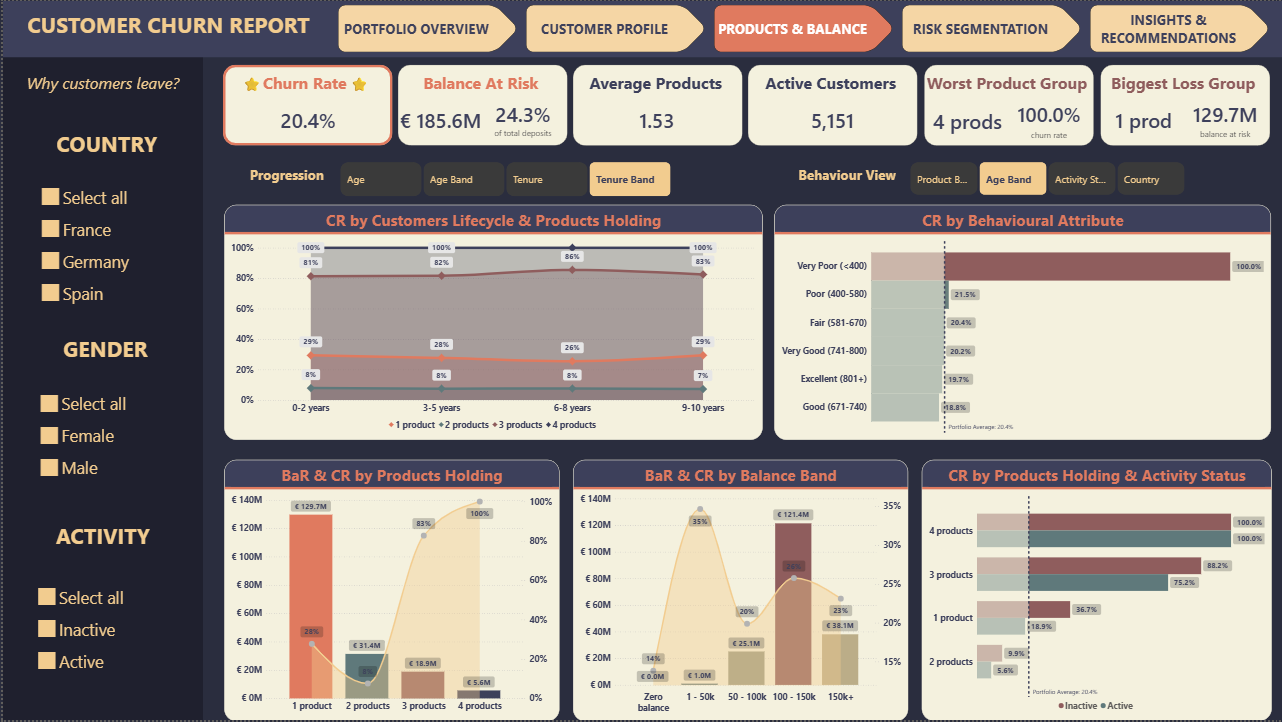

What the dashboard file says about the page in this screenshot:
{"tool":"powerbi","page":{"name":"PRODUCTS & BALANCE","canvas":[2560,1440],"ordinal":2},"visuals":[{"type":"group","id":"g1","title":"Group 2","box":[0,78,400,1362],"z":0},{"type":"textbox","box":[472,325.2,190.8,58.7],"z":0,"group":"g12"},{"type":"shape","box":[0,78,400,1362],"z":500,"group":"g1"},{"type":"shape","box":[0,0,2560,112.5],"z":1000},{"type":"shape","box":[1138.6,126.7,338.9,162],"z":1000,"group":"g5"},{"type":"shape","box":[788.7,127.2,338.9,161.5],"z":1000,"group":"g4"},{"type":"shape","box":[1488.4,127.2,338.8,162],"z":1000,"group":"g6"},{"type":"shape","box":[1841.3,127.2,338.9,162],"z":1000,"group":"g7"},{"type":"shape","box":[2192.6,127.2,338.9,162],"z":1000,"group":"g8"},{"type":"shape","box":[438.3,127.9,338.9,161.5],"z":1000,"group":"g9"},{"type":"textbox","box":[1582.5,325.9,212.4,58.1],"z":1000,"group":"g11"},{"type":"pageNavigator","box":[670,8.3,1866.7,95],"z":2000},{"type":"advancedSlicerVisual","fields":{"Values":["Progression.Progression"]},"box":[668.5,316.7,670.1,78.3],"z":2000,"group":"g12"},{"type":"group","id":"g2","title":"Group 5","box":[0,12.5,662.5,90],"z":3000},{"type":"textbox","box":[67.5,250,280,87.5],"z":3000,"group":"g1"},{"type":"advancedSlicerVisual","fields":{"Values":["Risk View.Risk View"]},"box":[1809.7,317.5,560.3,75],"z":3000,"group":"g11"},{"type":"group","id":"g3","title":"Group 4","box":[431.7,126.7,2100,165.4],"z":4000},{"type":"group","id":"g4","title":"Group 1","box":[782.1,127.2,345.7,161.5],"z":5000,"group":"g3"},{"type":"textbox","box":[1132,136.3,345.7,74.1],"z":5000,"group":"g5"},{"type":"textbox","box":[782.1,136.8,345.7,73.9],"z":5000,"group":"g4"},{"type":"textbox","box":[1481.8,136.8,345.6,74.1],"z":5000,"group":"g6"},{"type":"textbox","box":[1834.7,136.8,345.7,74.1],"z":5000,"group":"g7"},{"type":"textbox","box":[2186,136.8,345.7,74.1],"z":5000,"group":"g8"},{"type":"textbox","box":[431.7,137.5,345.7,73.9],"z":5000,"group":"g9"},{"type":"slicer","fields":{"Values":["Dim_Geography.Geography"]},"box":[65,360,280,265],"z":5000,"group":"g1"},{"type":"lineChart","title":"CR by Customers Lifecycle & Products Holding","fields":{"Category":["Dim_TenureBand.TenureBand"],"Series":["Dim_ProductBand.ProductBand"],"Y":["_Measures.Churn Rate %"]},"box":[443.3,406.7,1076.7,470],"z":5000},{"type":"group","id":"g5","title":"Group 1","box":[1132,126.7,346,162],"z":6000,"group":"g14"},{"type":"group","id":"g6","title":"Group 1","box":[1481.8,127.2,345.6,162],"z":6000,"group":"g13"},{"type":"group","id":"g7","title":"Group 1","box":[1834.7,127.2,345.7,163.7],"z":6000,"group":"g16"},{"type":"group","id":"g8","title":"Group 1","box":[2186,127.2,345.7,162],"z":6000,"group":"g15"},{"type":"group","id":"g9","title":"Group 1","box":[431.7,127.9,346.7,164.2],"z":6000,"group":"g10"},{"type":"group","id":"g10","title":"Group 3","box":[431.7,127.9,346.7,164.2],"z":6000,"group":"g3"},{"type":"clusteredBarChart","title":"CR by Products Holding & Activity Status","fields":{"Category":["Dim_ProductBand.ProductBand"],"Series":["Dim_ActivityStatus.Activity_Status"],"Y":["_Measures.Churn Rate %"]},"box":[1837.2,916.3,700,522.5],"z":6000},{"type":"lineClusteredColumnComboChart","title":"BaR & CR by Products Holding","fields":{"Category":["Dim_ProductBand.ProductBand"],"Y":["_Measures.Balance at Risk"],"Y2":["_Measures.Churn Rate %"]},"box":[441.9,916.3,670,523.3],"z":7000},{"type":"textbox","box":[67.5,660,275,87.5],"z":8000,"group":"g1"},{"type":"lineClusteredColumnComboChart","title":"BaR & CR by Balance Band","fields":{"Category":["Dim_BalanceBand.BalanceBand"],"Y":["_Measures.Balance at Risk"],"Y2":["_Measures.Churn Rate %"]},"box":[1139.5,916.3,670,523.3],"z":8000},{"type":"clusteredBarChart","title":"CR by Behavioural Attribute","fields":{"Category":["Dim_ActivityStatus.Activity_Status","Dim_CreditBand.CreditBand","Fact_Customer.HasCrCard"],"Y":["_Measures.Churn Rate %"]},"box":[1543.3,406.7,993.3,470],"z":9000},{"type":"slicer","fields":{"Values":["Dim_Gender.Gender"]},"box":[62.5,772.5,275,205],"z":9000,"group":"g1"},{"type":"group","id":"g11","title":"Group 6","box":[1582.5,317.5,787.5,75],"z":10000},{"type":"textbox","box":[0,137.5,400,130],"z":11000,"group":"g1"},{"type":"group","id":"g12","title":"Group 7","box":[472,316.7,866.6,78.3],"z":11000},{"type":"textbox","box":[0,12.5,662.5,90],"z":12000,"group":"g2"},{"type":"group","id":"g13","title":"Group 3","box":[1481.8,127.2,345.6,162],"z":12000,"group":"g3"},{"type":"group","id":"g14","title":"Group 3","box":[1132,126.7,346,162],"z":13000,"group":"g3"},{"type":"textbox","box":[60,1035,280,87],"z":13000,"group":"g1"},{"type":"group","id":"g15","title":"Group 3","box":[2186,127.2,345.7,162],"z":14000,"group":"g3"},{"type":"slicer","fields":{"Values":["Dim_ActivityStatus.Activity_Status"]},"box":[57.5,1160,280,197.5],"z":15000,"group":"g1"},{"type":"group","id":"g16","title":"Group 3","box":[1834.7,127.2,345.7,163.7],"z":16000,"group":"g3"},{"type":"cardVisual","fields":{"Data":["_Measures.Churn Rate %"]},"box":[442.4,184.1,336,108],"z":16000,"group":"g9"},{"type":"cardVisual","fields":{"Data":["_Measures.Balance at Risk","_Measures.Balance at Risk %"]},"box":[786.1,184.9,340,102],"z":16000,"group":"g4"},{"type":"cardVisual","fields":{"Data":["_Measures.Active Customers"]},"box":[1488.3,184.9,338,104],"z":16000,"group":"g6"},{"type":"cardVisual","fields":{"Data":["_Measures.Worst Product Group","_Measures.Worst Product Group Value"]},"box":[1841.4,184.9,336,106],"z":16000,"group":"g7"},{"type":"cardVisual","fields":{"Data":["_Measures.Biggest Loss Group","_Measures.Biggest Loss Value"]},"box":[2194,184.9,336,104],"z":16000,"group":"g8"},{"type":"cardVisual","fields":{"Data":["_Measures.Avg Products"]},"box":[1138,185.4,340,102],"z":16000,"group":"g5"}]}

Visuals, with their boxes in screenshot pixels (x1, y1, x2, y2), scaled from the page's 2560x1440 canvas onto the 1282x722 screenshot:
"Group 2" group: detection(0, 39, 200, 721)
textbox: detection(236, 163, 332, 192)
shape: detection(0, 39, 200, 721)
shape: detection(0, 0, 1281, 56)
shape: detection(570, 64, 740, 145)
shape: detection(395, 64, 565, 145)
shape: detection(745, 64, 915, 145)
shape: detection(922, 64, 1092, 145)
shape: detection(1098, 64, 1268, 145)
shape: detection(219, 64, 389, 145)
textbox: detection(792, 163, 899, 193)
pageNavigator: detection(336, 4, 1270, 52)
advancedSlicerVisual - Progression.Progression: detection(335, 159, 670, 198)
"Group 5" group: detection(0, 6, 332, 51)
textbox: detection(34, 125, 174, 169)
advancedSlicerVisual - Risk View.Risk View: detection(906, 159, 1187, 197)
"Group 4" group: detection(216, 64, 1268, 146)
"Group 1" group: detection(392, 64, 565, 145)
textbox: detection(567, 68, 740, 105)
textbox: detection(392, 69, 565, 106)
textbox: detection(742, 69, 915, 106)
textbox: detection(919, 69, 1092, 106)
textbox: detection(1095, 69, 1268, 106)
textbox: detection(216, 69, 389, 106)
slicer - Dim_Geography.Geography: detection(33, 180, 173, 313)
"CR by Customers Lifecycle & Products Holding" lineChart: detection(222, 204, 761, 440)
"Group 1" group: detection(567, 64, 740, 145)
"Group 1" group: detection(742, 64, 915, 145)
"Group 1" group: detection(919, 64, 1092, 146)
"Group 1" group: detection(1095, 64, 1268, 145)
"Group 1" group: detection(216, 64, 390, 146)
"Group 3" group: detection(216, 64, 390, 146)
"CR by Products Holding & Activity Status" clusteredBarChart: detection(920, 459, 1271, 721)
"BaR & CR by Products Holding" lineClusteredColumnComboChart: detection(221, 459, 557, 721)
textbox: detection(34, 331, 172, 375)
"BaR & CR by Balance Band" lineClusteredColumnComboChart: detection(571, 459, 906, 721)
"CR by Behavioural Attribute" clusteredBarChart: detection(773, 204, 1270, 440)
slicer - Dim_Gender.Gender: detection(31, 387, 169, 490)
"Group 6" group: detection(792, 159, 1187, 197)
textbox: detection(0, 69, 200, 134)
"Group 7" group: detection(236, 159, 670, 198)
textbox: detection(0, 6, 332, 51)
"Group 3" group: detection(742, 64, 915, 145)
"Group 3" group: detection(567, 64, 740, 145)
textbox: detection(30, 519, 170, 563)
"Group 3" group: detection(1095, 64, 1268, 145)
slicer - Dim_ActivityStatus.Activity_Status: detection(29, 582, 169, 681)
"Group 3" group: detection(919, 64, 1092, 146)
cardVisual - _Measures.Churn Rate %: detection(222, 92, 390, 146)
cardVisual - _Measures.Balance at Risk x _Measures.Balance at Risk %: detection(394, 93, 564, 144)
cardVisual - _Measures.Active Customers: detection(745, 93, 915, 145)
cardVisual - _Measures.Worst Product Group x _Measures.Worst Product Group Value: detection(922, 93, 1090, 146)
cardVisual - _Measures.Biggest Loss Group x _Measures.Biggest Loss Value: detection(1099, 93, 1267, 145)
cardVisual - _Measures.Avg Products: detection(570, 93, 740, 144)
